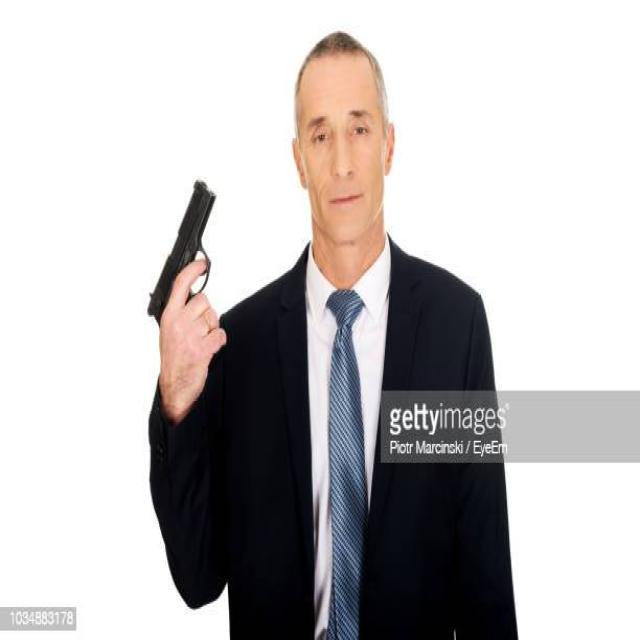HandGun: (147, 180, 216, 326)
